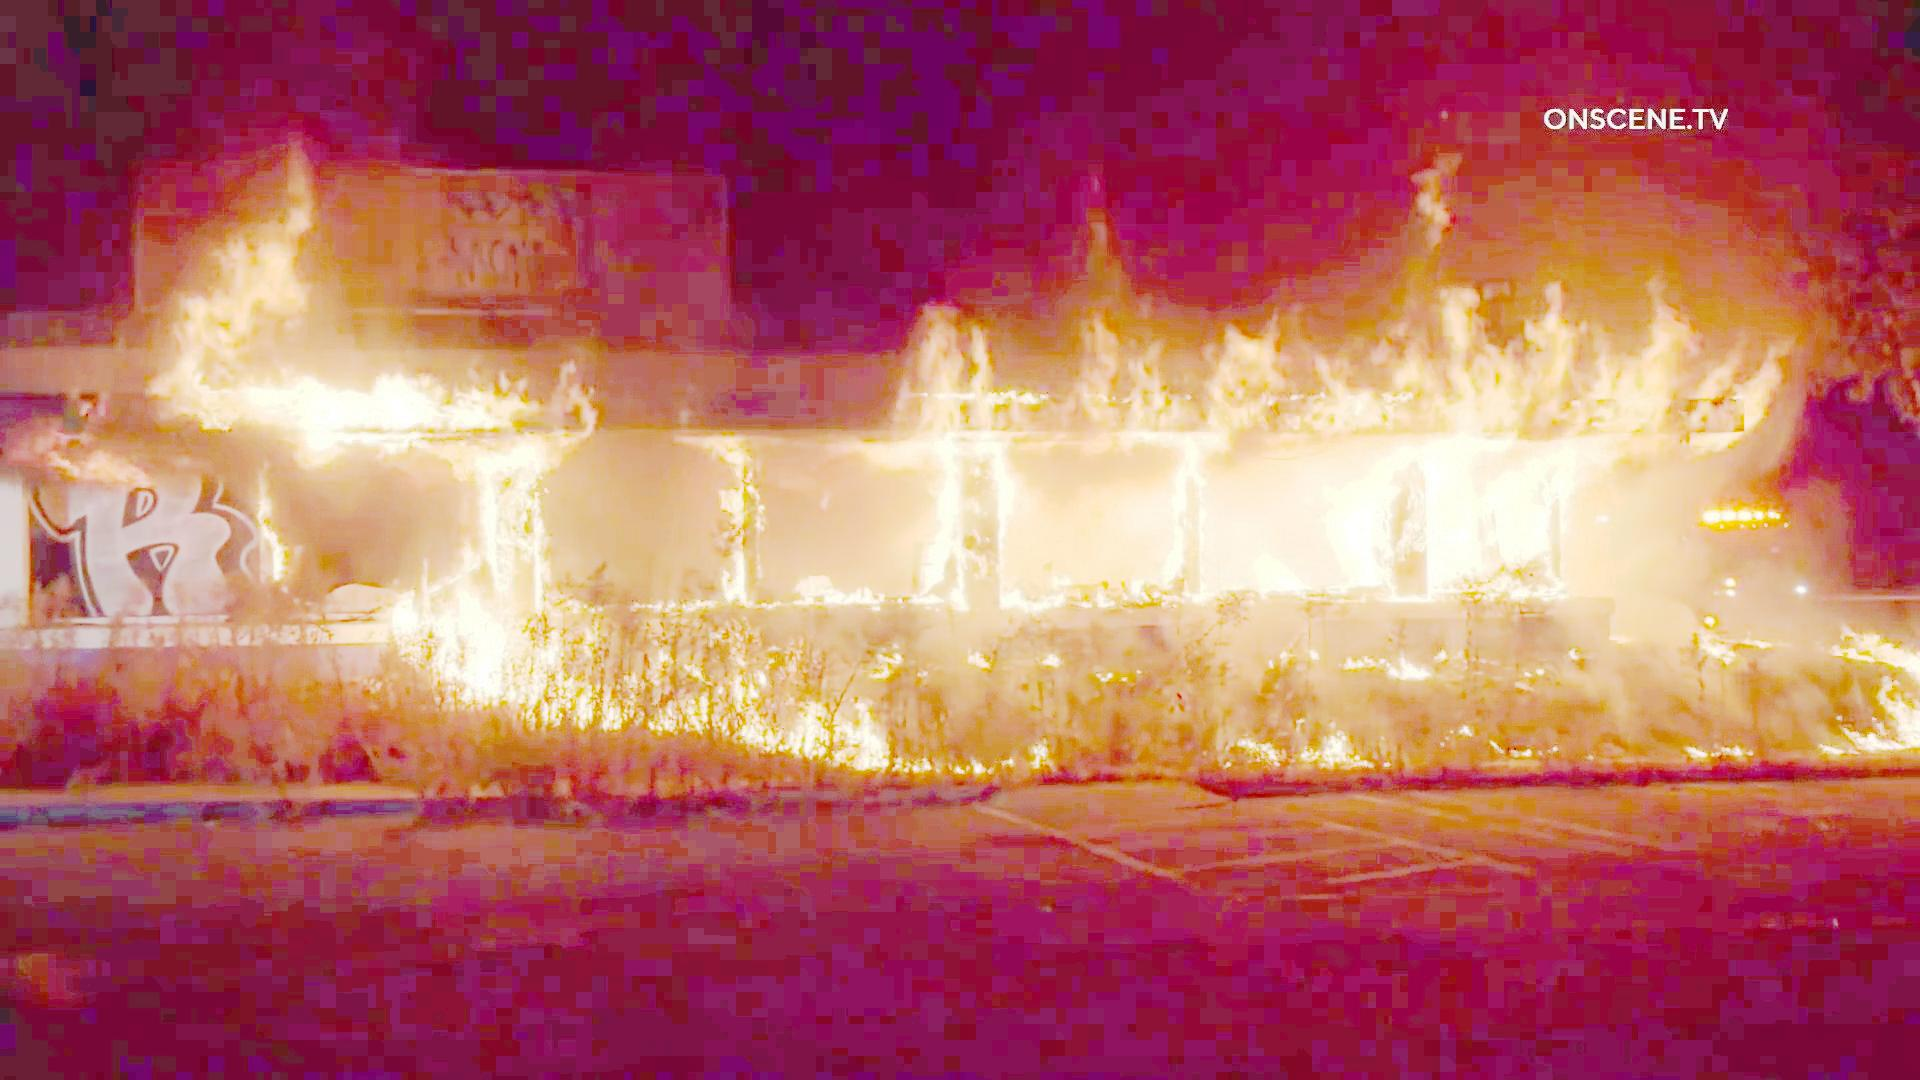fire: (1081, 293, 1750, 607), (193, 351, 566, 451), (886, 335, 1031, 592)
